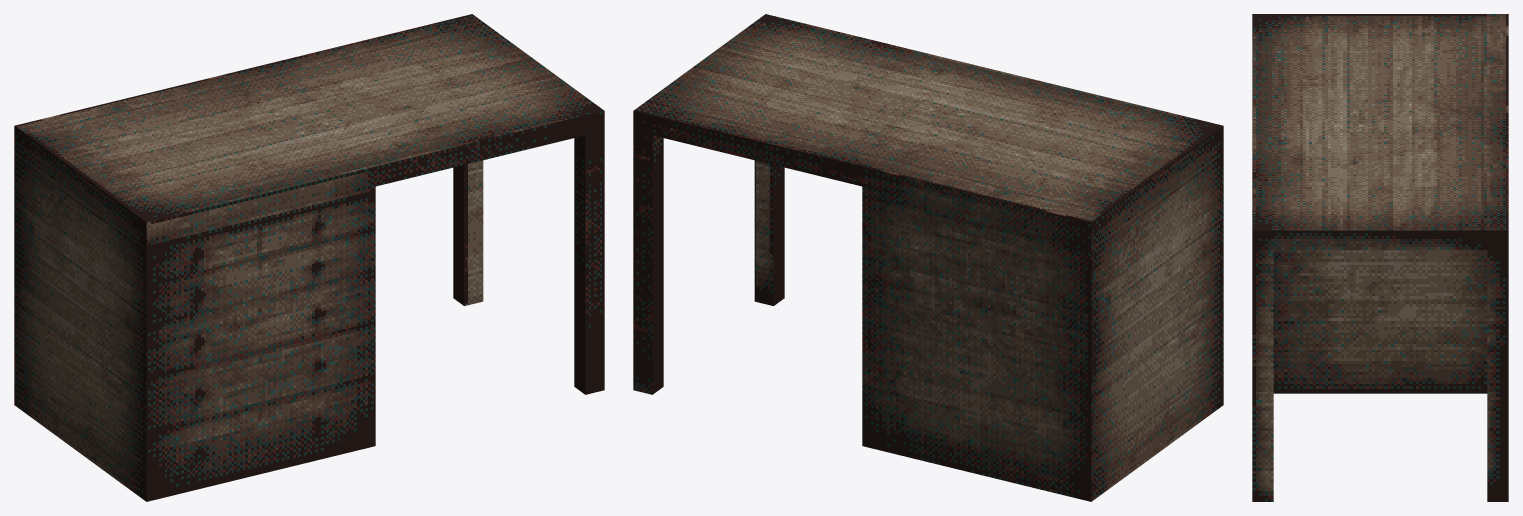
File: workdesk.glb
3 views of the same model, side by side, from view 1: azimuth 30°, elevation 25°; view 2: azimuth 150°, elevation 25°; view 3: azimuth 270°, elevation 25° (orthographic). The views are drawn at different scales.
Visible parts, largest first — view 1: workdesk-col; view 2: workdesk-col; view 3: workdesk-col.
Part boxes in pixels (x1,y1,x2,y2): workdesk-col: [14, 14, 604, 501]; workdesk-col: [633, 14, 1223, 501]; workdesk-col: [1252, 14, 1508, 501].
Bounding box in the file's own units: 1.2 × 0.7 × 0.6.
Materials: 1 (1 with a texture image).
